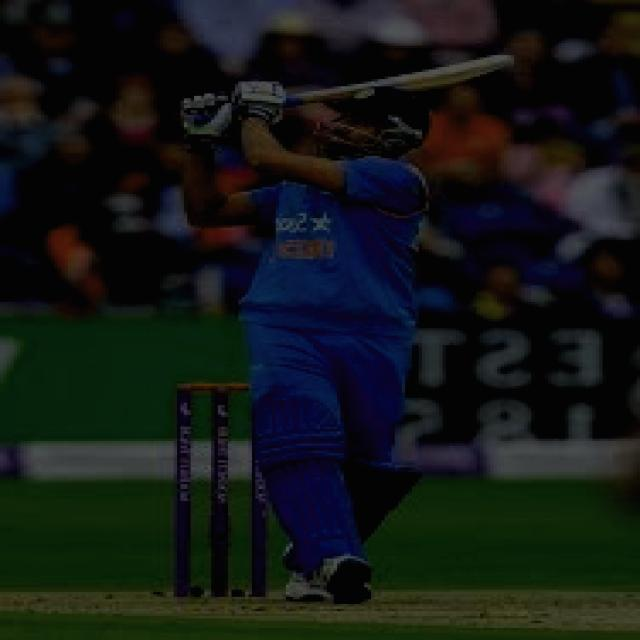toe: (490, 53, 509, 70)
